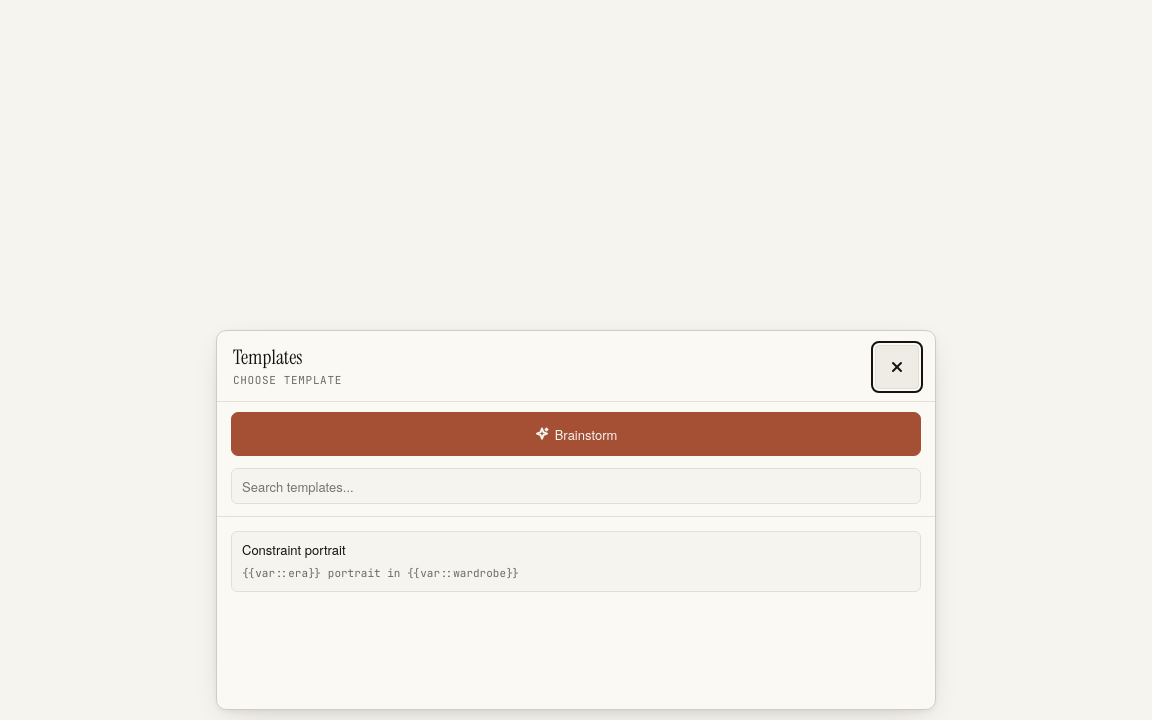
PromptPicker axis dropdown coordination › pointerdown inside the dropdown keeps the picker open; clicking the picker closes only the dropdown
The image size is (1152, 720).
Click the button "Constraint portrait".
click(294, 550)  # box [231,531,921,592]
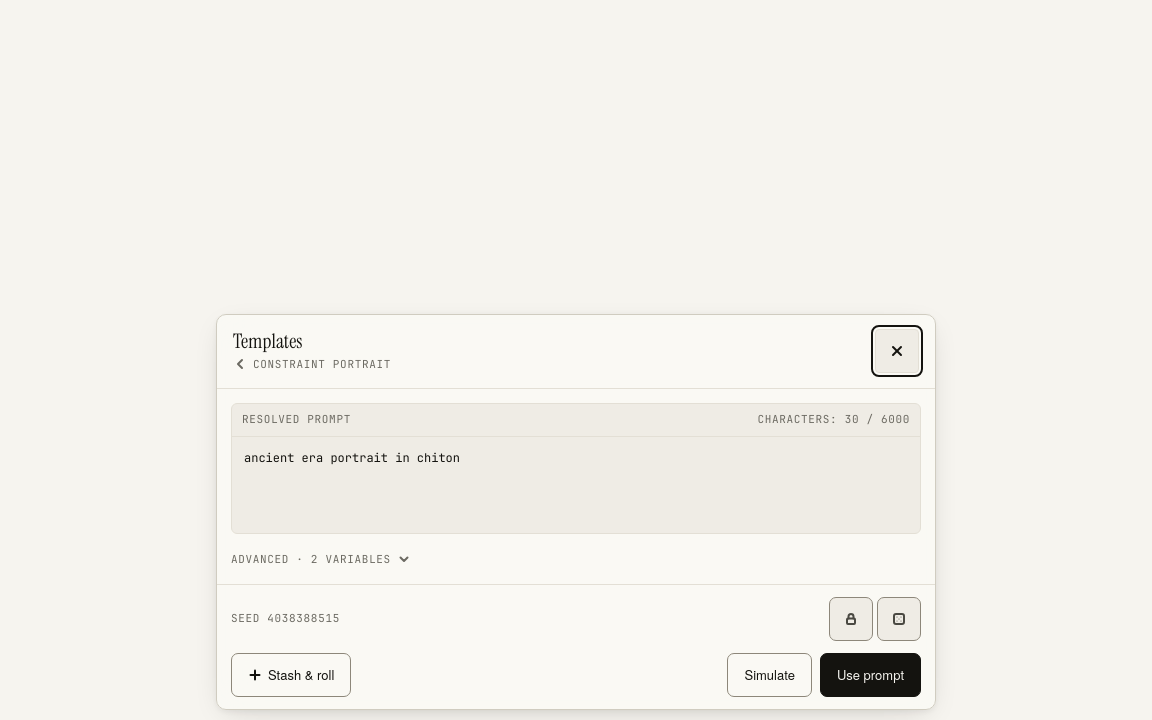
Click the button "Advanced · 2 variables".
click(321, 559)  # box [231,548,411,570]
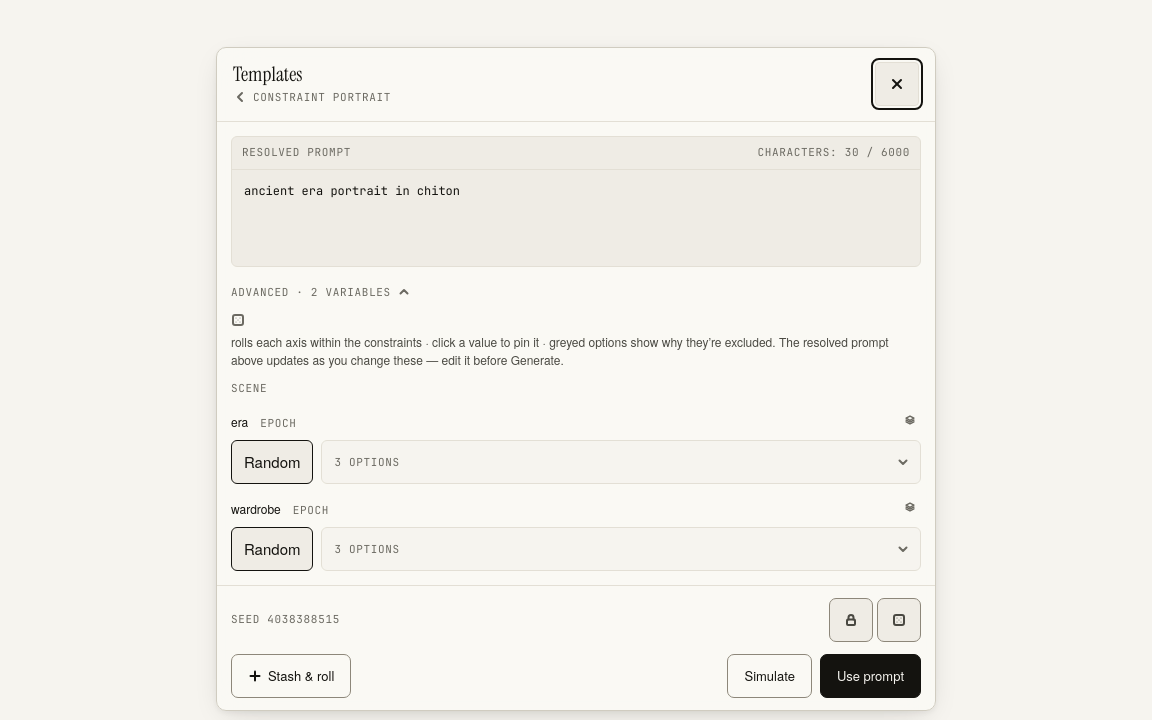
Click the button with aria-label "Choose wardrobe value".
click(367, 548)  # box [322,526,921,570]
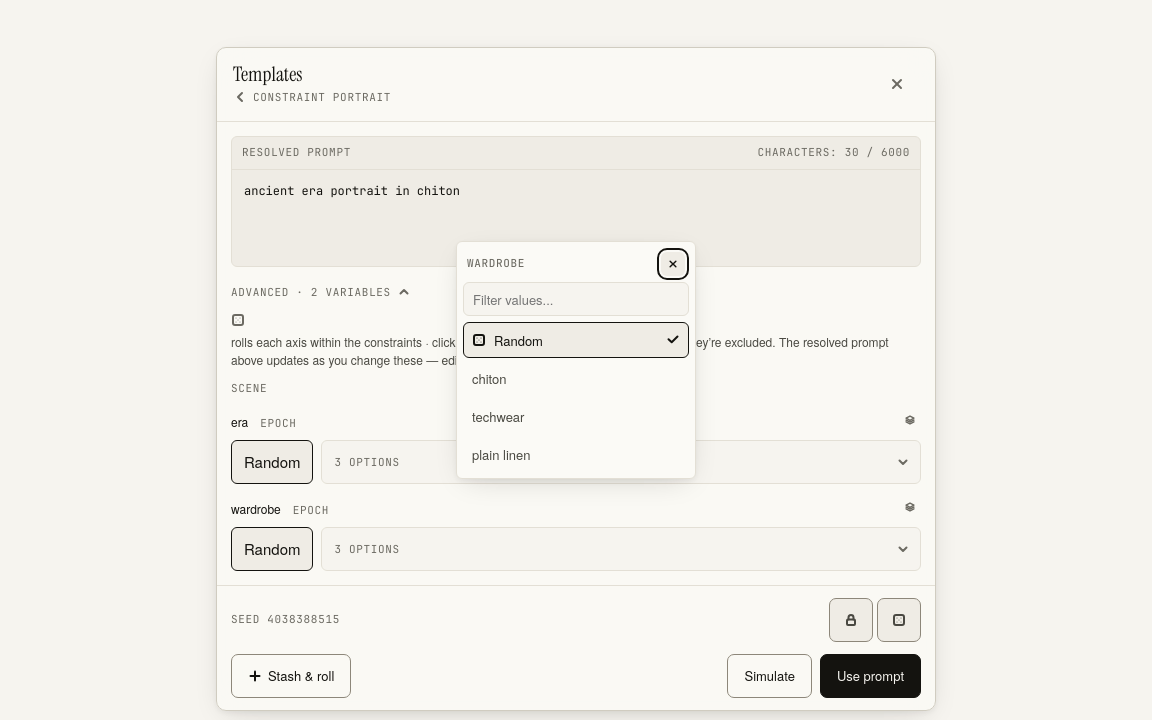
Press the mouse on the button "plain linen" at (576, 454), box [463,436,689,472]
Result: the button "plain linen" is shown at [463,436,689,472]
Press the mouse on the button "Use prompt" at (870, 675), box [820,653,921,697]
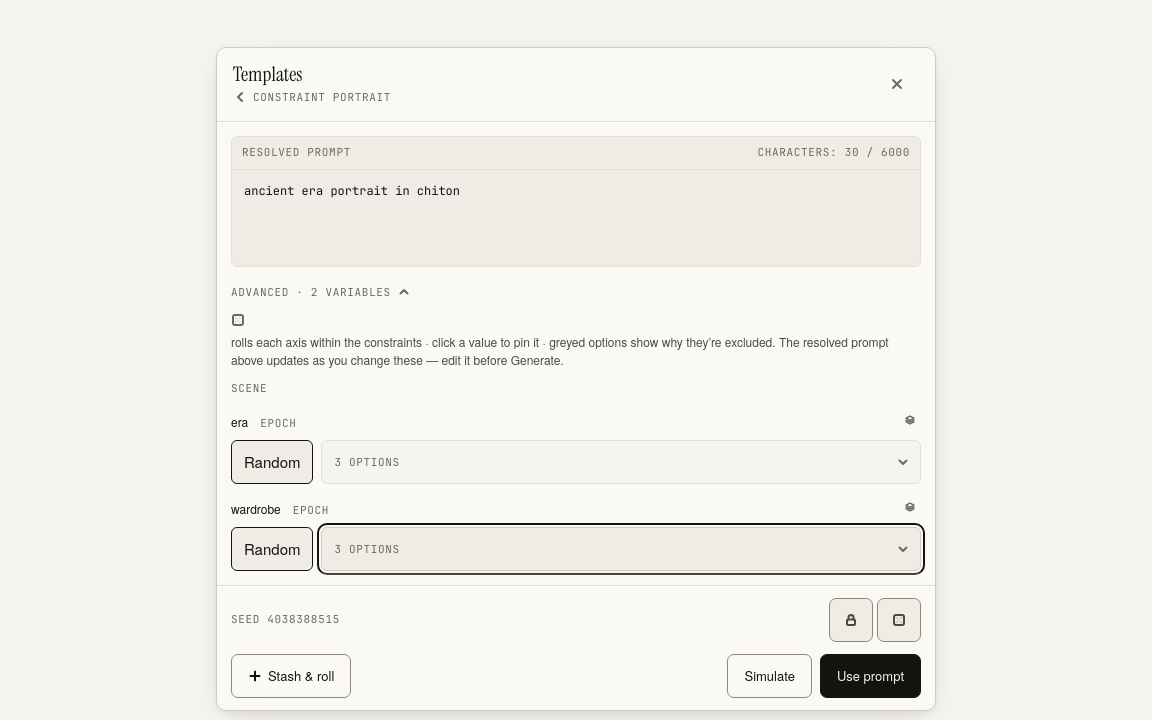
Result: the button "plain linen" is gone
